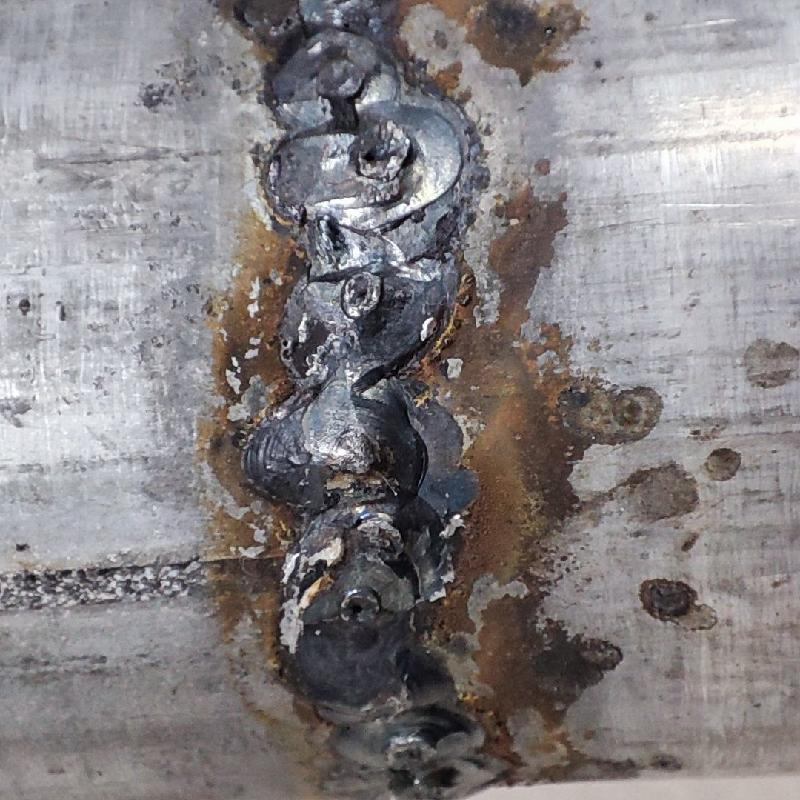Surface_pores: (342, 134, 400, 185), (339, 585, 383, 632), (344, 273, 380, 315)
